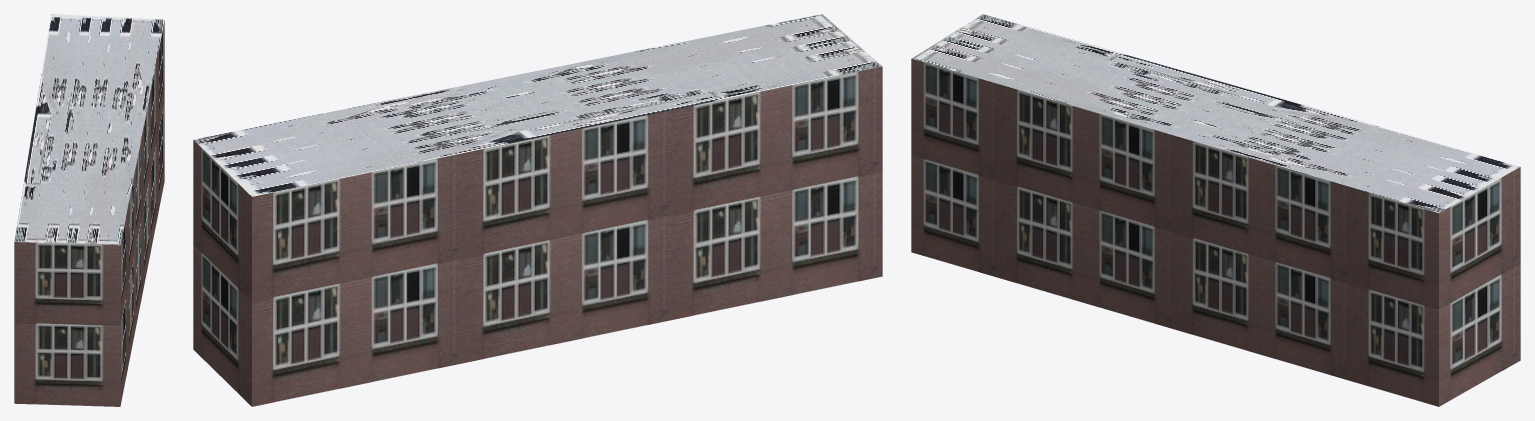
Rendered from ResTex__227.fbx.
The picture shows the model from 3 angles, left to right: view 1: azimuth 30°, elevation 25°; view 2: azimuth 150°, elevation 25°; view 3: azimuth 270°, elevation 25°; orthographic projection. The views are drawn at different scales.
Visible parts, largest first — view 1: CityEngineMaterial_8_m, CityEngineMaterial_12_m; view 2: CityEngineMaterial_12_m, CityEngineMaterial_8_m; view 3: CityEngineMaterial_12_m, CityEngineMaterial_8_m.
Boxes of the visible parts, x1,y1,x2,y2 form: CityEngineMaterial_8_m: (14,14,164,245); CityEngineMaterial_12_m: (14,20,164,406); CityEngineMaterial_12_m: (193,66,882,406); CityEngineMaterial_8_m: (193,14,882,196); CityEngineMaterial_12_m: (911,58,1520,406); CityEngineMaterial_8_m: (912,14,1520,212).
Bounding box in the file's own units: 13.23 × 6 × 17.09.
Materials: 2 (2 with a texture image).
